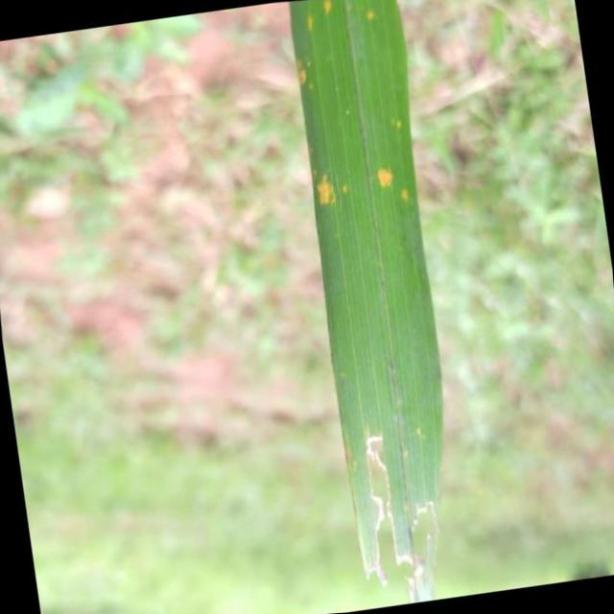Kalium: (289, 0, 448, 608)
